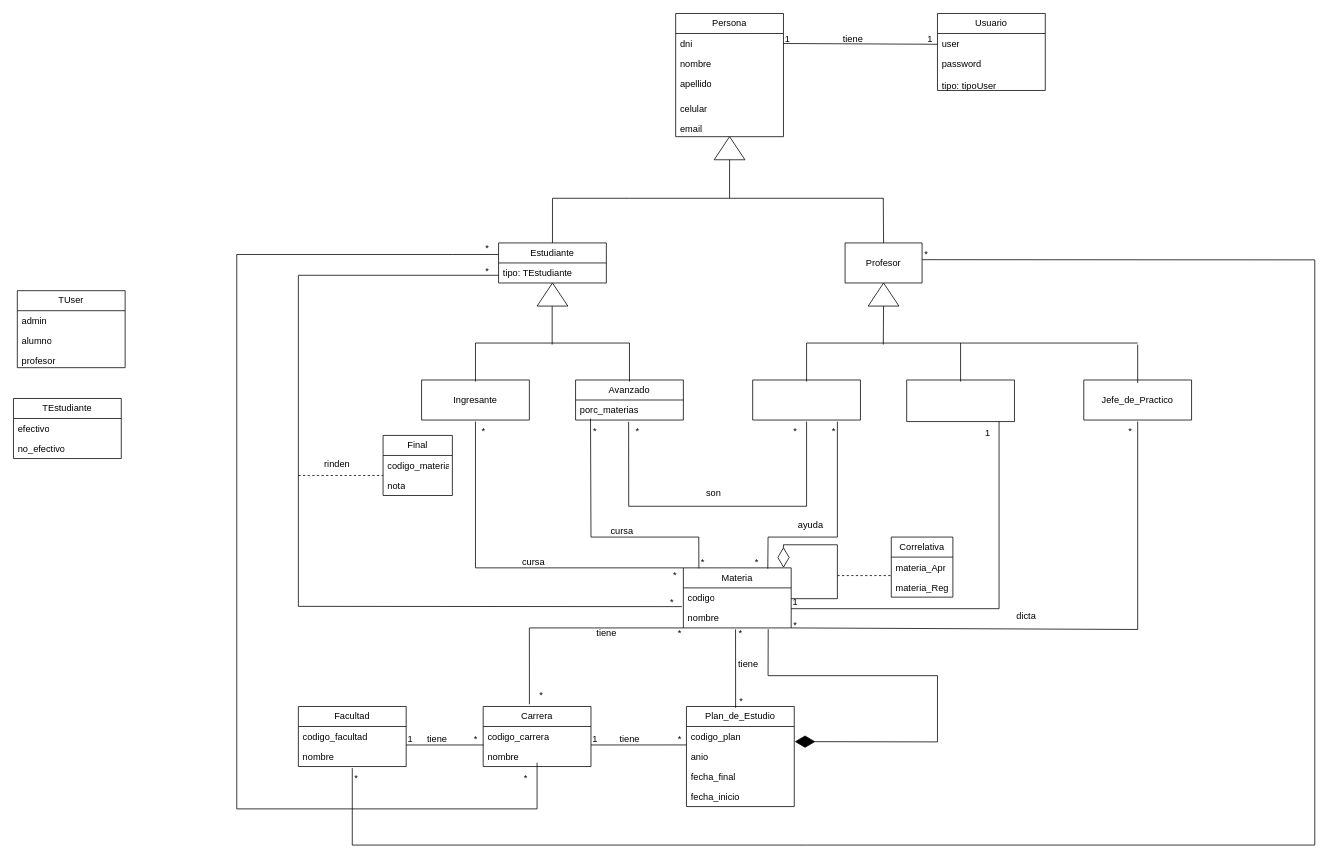
Image size: 1329x859. Some labels were removed from this diagram. Here are the shapes that lost their labels. From the top down, the centre of each, then its label:
At [806,399]: "Ayudante".
At [960,400]: "Responsable".
